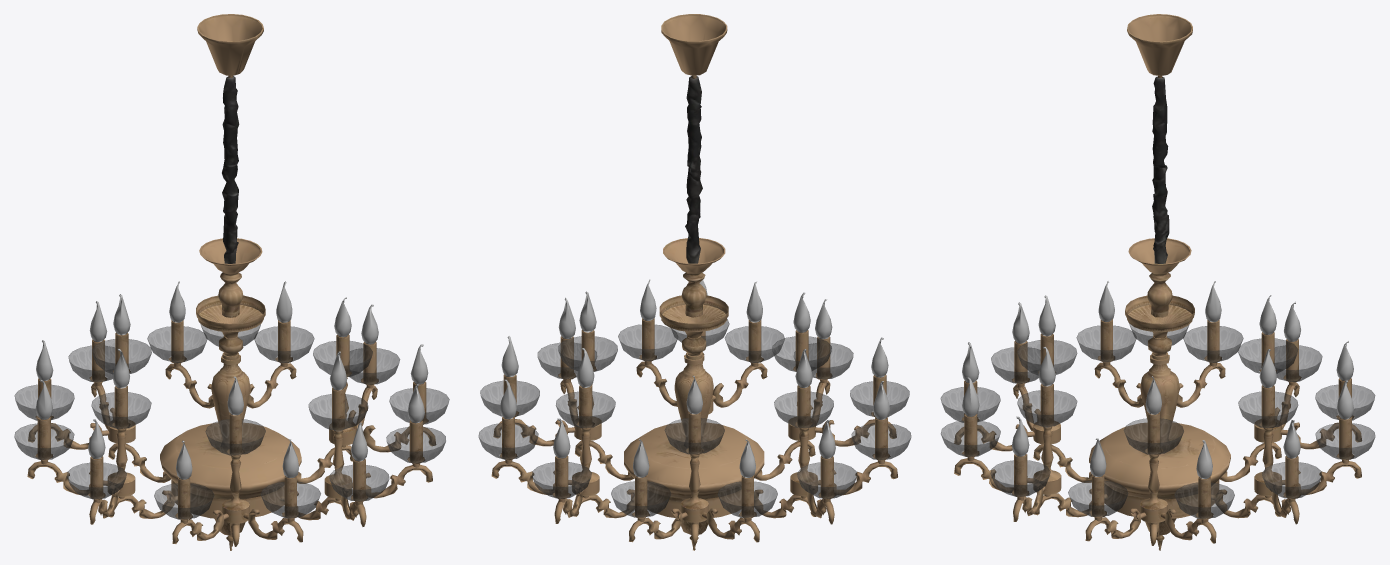
The model's file is Chandelier_03.glb.
3 views of the same model, side by side, from view 1: azimuth 30°, elevation 25°; view 2: azimuth 150°, elevation 25°; view 3: azimuth 270°, elevation 25° (orthographic).
Visible parts, largest first — view 1: Chandelier_03; view 2: Chandelier_03; view 3: Chandelier_03.
Part boxes in pixels (bbox=[...]): Chandelier_03: bbox=[14, 14, 449, 550]; Chandelier_03: bbox=[478, 14, 911, 550]; Chandelier_03: bbox=[940, 14, 1375, 550].
Size of the model in its own units: 0.7804 by 1.04 by 0.7853.
Materials: 2 (2 with a texture image).
